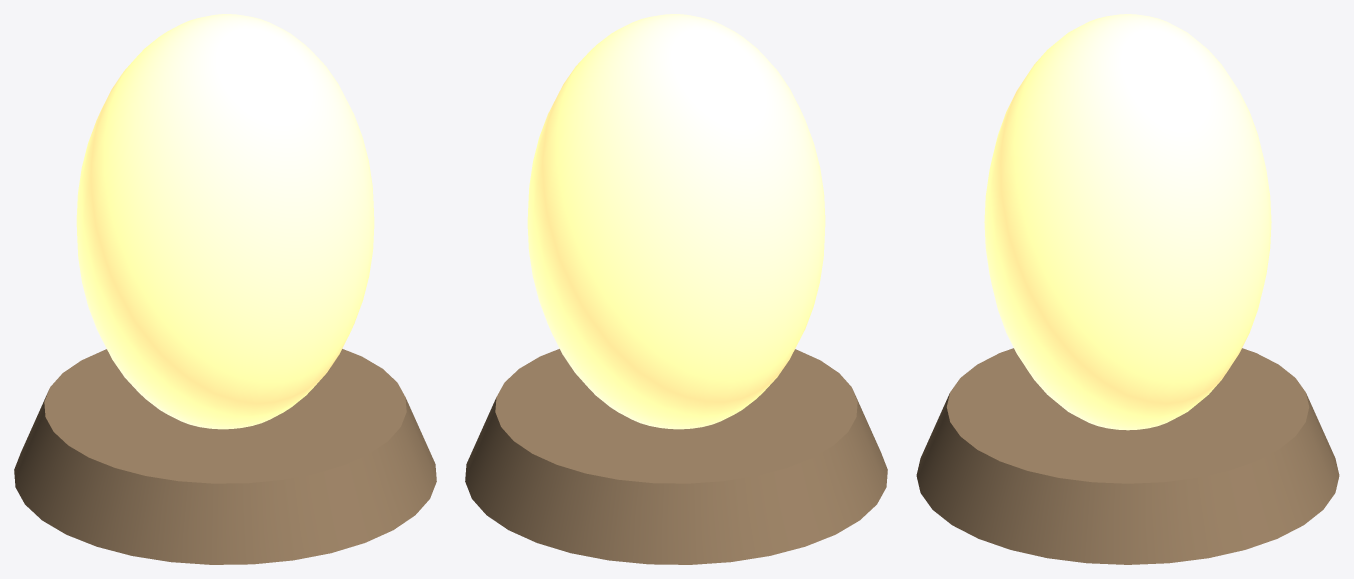
The model's file is lamp.glb.
The picture shows the model from 3 angles, left to right: view 1: azimuth 30°, elevation 25°; view 2: azimuth 150°, elevation 25°; view 3: azimuth 270°, elevation 25°; orthographic projection.
Visible parts, largest first — view 1: Mesh_LightStone, Mesh_LampBase; view 2: Mesh_LightStone, Mesh_LampBase; view 3: Mesh_LightStone, Mesh_LampBase.
Part boxes in pixels (x1,y1,x2,y2): Mesh_LightStone: [76, 14, 374, 429]; Mesh_LampBase: [14, 349, 436, 564]; Mesh_LightStone: [527, 14, 825, 429]; Mesh_LampBase: [465, 349, 887, 564]; Mesh_LightStone: [984, 14, 1271, 430]; Mesh_LampBase: [916, 348, 1339, 564].
Size of the model in its own units: 0.56 by 0.66 by 0.56.
